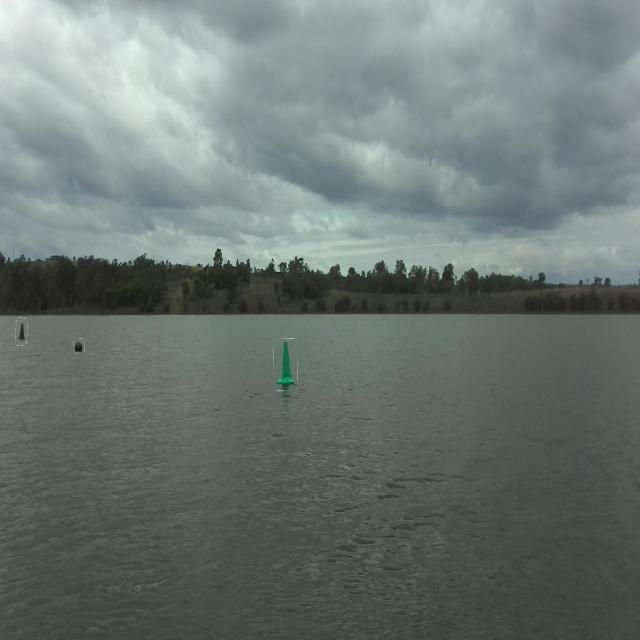Black_Buoy: (17, 311, 31, 348), (70, 332, 87, 358)
Green_Buoy: (268, 316, 299, 391)
